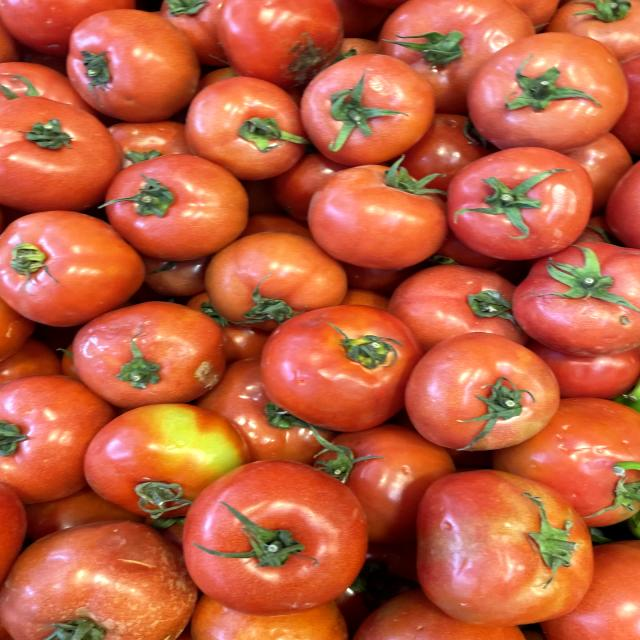tomato: (399, 465, 620, 628), (180, 450, 387, 621), (397, 317, 575, 459), (247, 295, 421, 435), (0, 520, 192, 640), (56, 287, 241, 411), (456, 24, 629, 155), (438, 134, 610, 259), (0, 197, 157, 331), (47, 5, 204, 126), (104, 144, 269, 257), (304, 152, 457, 272), (290, 45, 438, 166)
